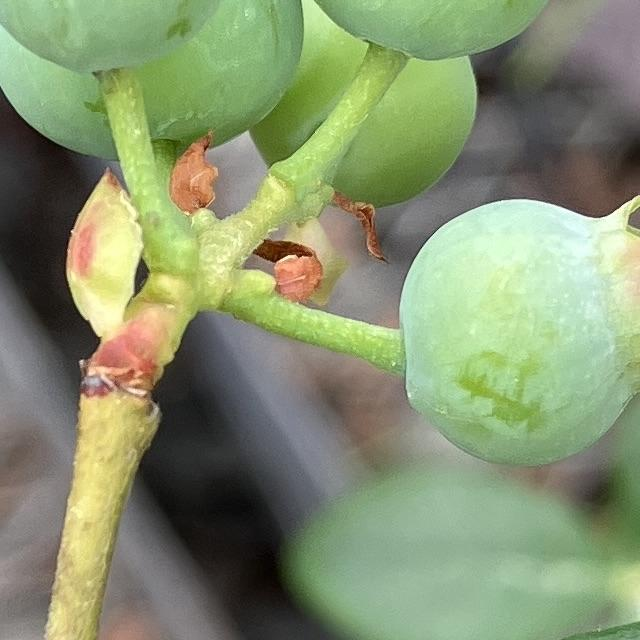Blueberries: (396, 190, 640, 467), (0, 0, 238, 78)
